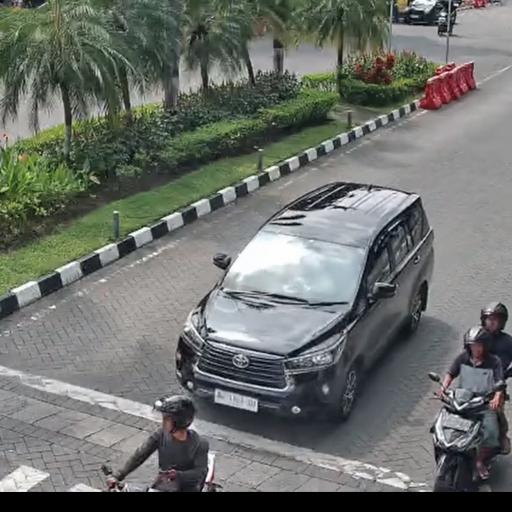mobil: (174, 182, 428, 415)
motor: (426, 361, 512, 490)
